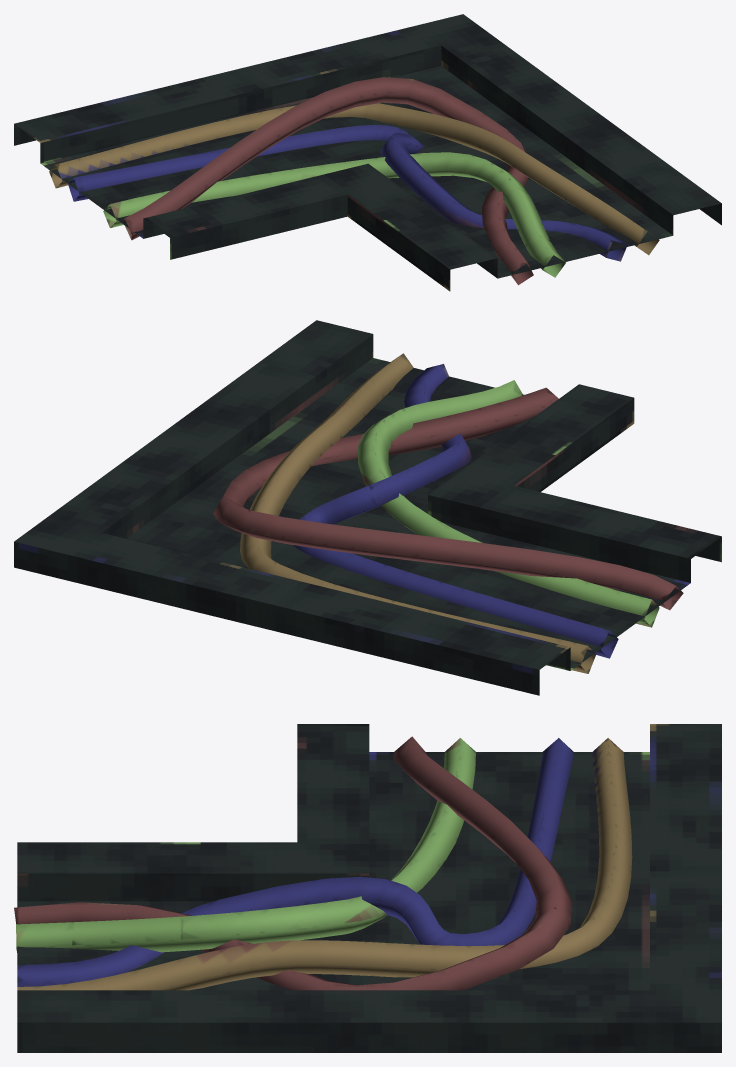
File: wiresTurn.fbx
3 renders of one model, top to bottom at view 1: azimuth 30°, elevation 25°; view 2: azimuth 150°, elevation 25°; view 3: azimuth 270°, elevation 25°, orthographic. The views are drawn at different scales.
Visible parts, largest first — view 1: wireTurn; view 2: wireTurn; view 3: wireTurn.
Part boxes in pixels (<box>): wireTurn: <box>14,14,721,291</box>; wireTurn: <box>14,320,721,695</box>; wireTurn: <box>14,724,721,1052</box>.
Size of the model in its own units: 1.44 by 1.45 by 0.1639.
